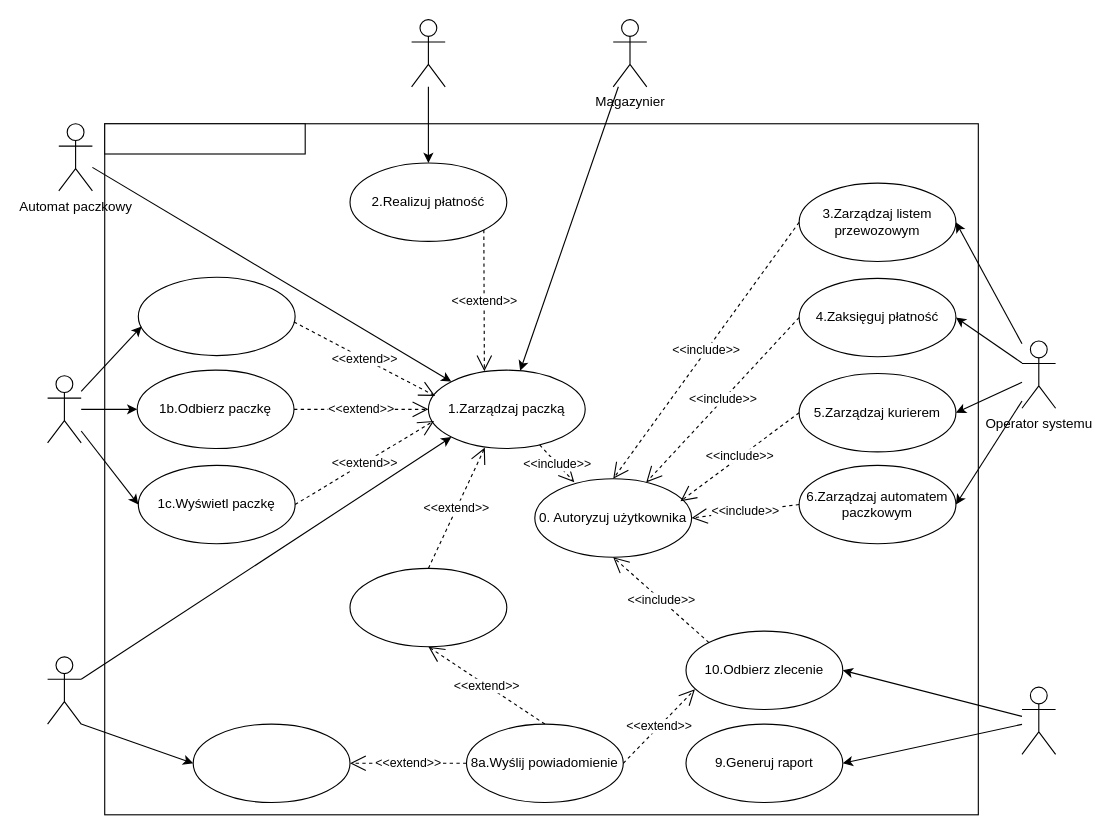
The diagram is 1114 pixels wide and 834 high, and some of its shapes have lost their labels. Here are the shapes that lost their labels. From the top down, the centre of each, then its label:
the point at 427,52: System płatności
the point at 204,138: System zarządzania paczkami
the point at 216,316: 1a.Nadaj paczkę
the point at 63,409: Klient
the point at 428,607: 8.Śledź paczkę
the point at 63,690: Kurier
the point at 1038,720: Pracownik obslugi klienta
the point at 271,762: 7.Przyjmij zlecenie
